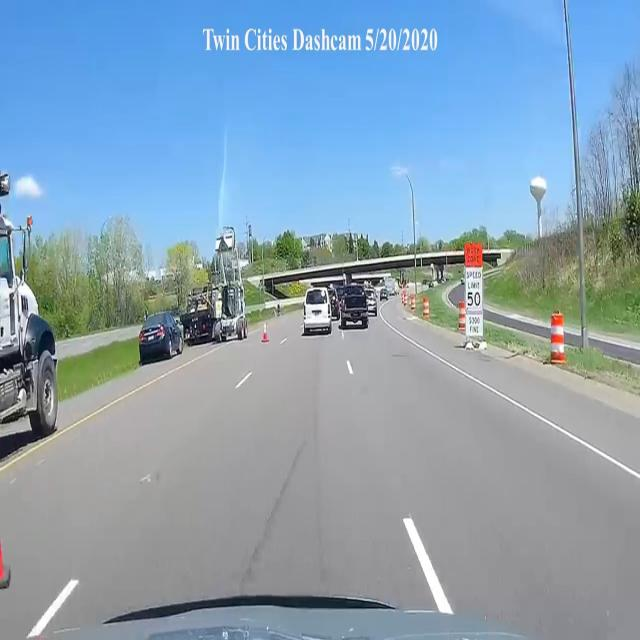cone: (259, 325, 269, 344)
